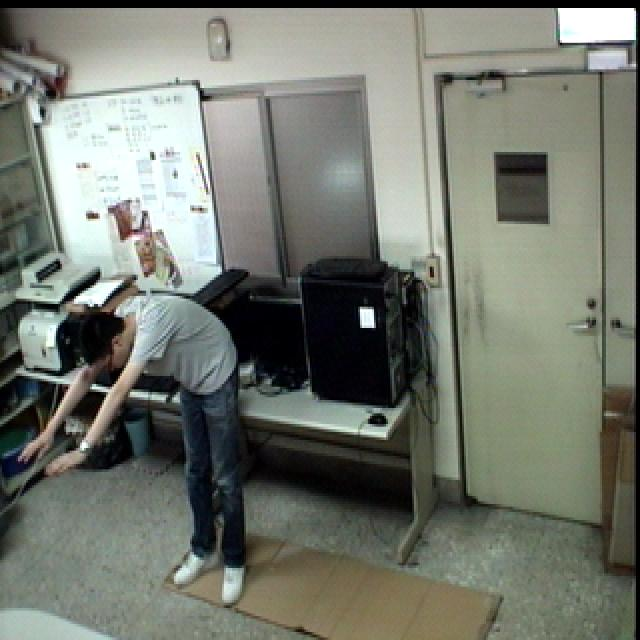bend: (16, 286, 261, 617)
